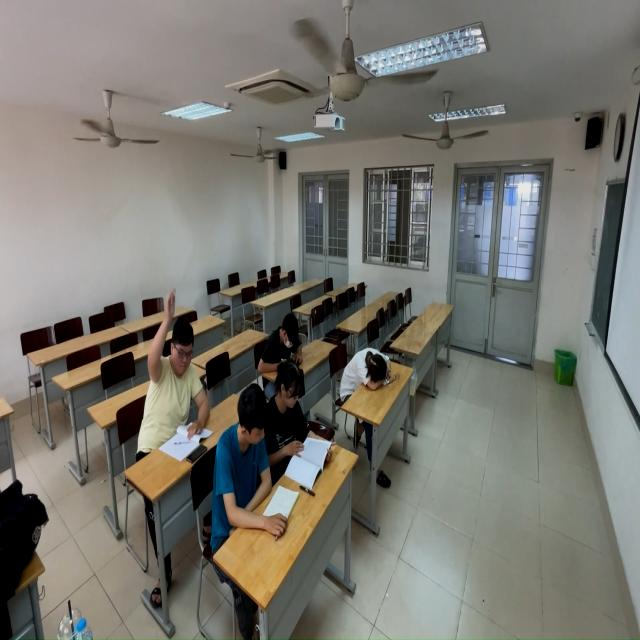raise_hand: (143, 285, 214, 458)
read: (209, 381, 286, 558), (270, 357, 333, 484), (263, 304, 302, 380)
sleep: (340, 329, 409, 398)
